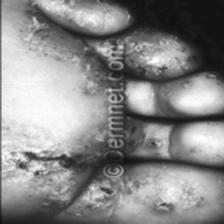Non-Cancerous Skin Condition: (6, 0, 104, 100), (0, 144, 84, 180), (127, 176, 209, 212), (68, 177, 119, 215), (134, 35, 178, 76)
